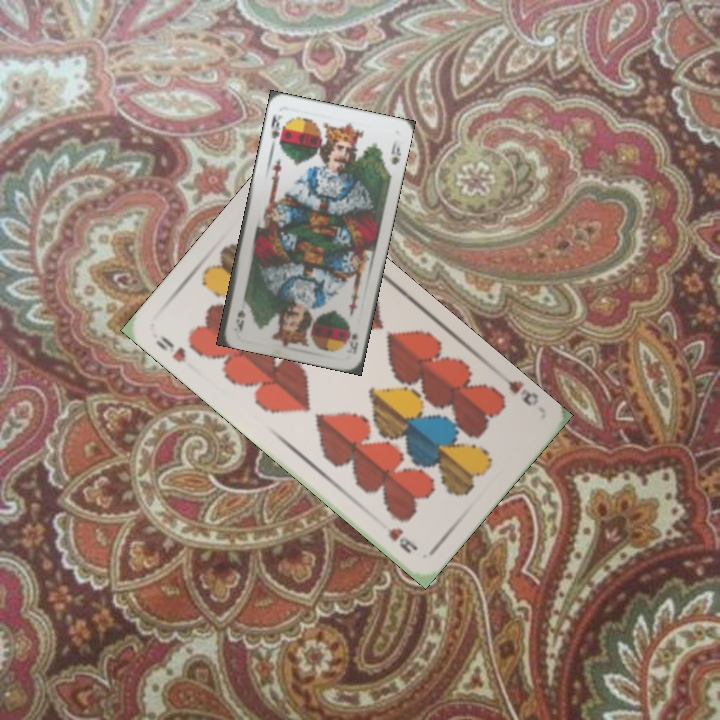H9: (495, 371, 539, 409), (151, 330, 189, 365)
SK: (267, 109, 286, 147), (342, 321, 361, 357)
